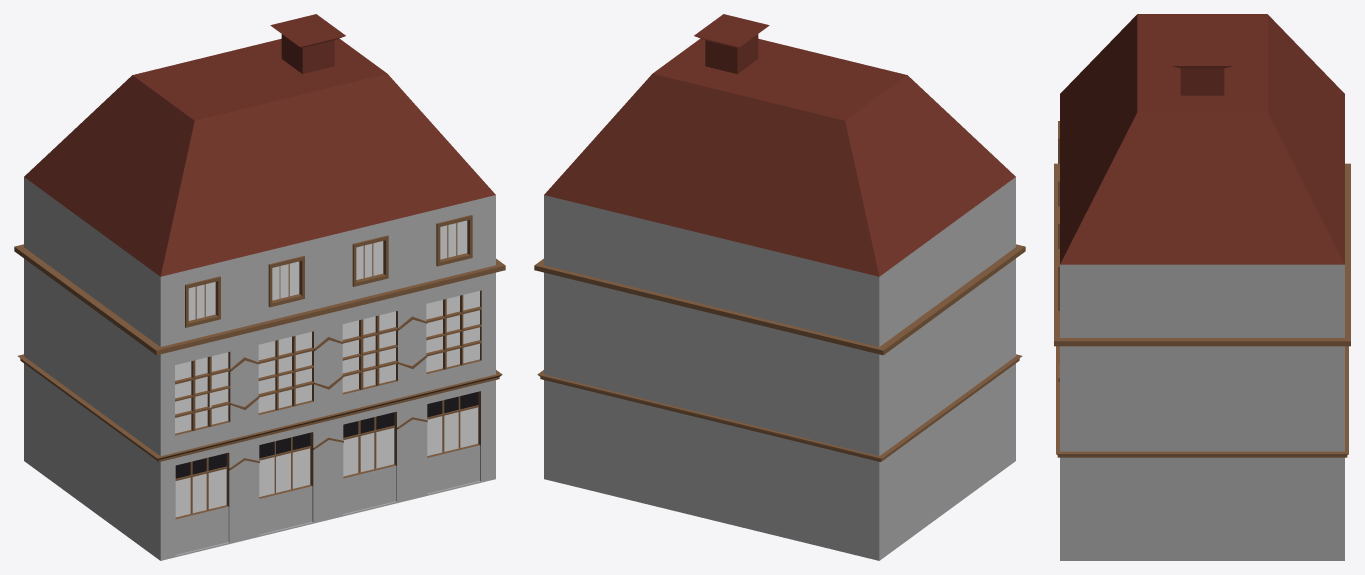
File: building.fbx
3 views of the same model, side by side, from view 1: azimuth 30°, elevation 25°; view 2: azimuth 150°, elevation 25°; view 3: azimuth 270°, elevation 25° (orthographic). The views are drawn at different scales.
Visible parts, largest first — view 1: Cube.003; view 2: Cube.003; view 3: Cube.003.
Part boxes in pixels (<box>): Cube.003: <box>14,14,505,560</box>; Cube.003: <box>534,14,1025,560</box>; Cube.003: <box>1054,14,1350,560</box>.
Bounding box in the file's own units: 5324 × 6230 × 3757.
